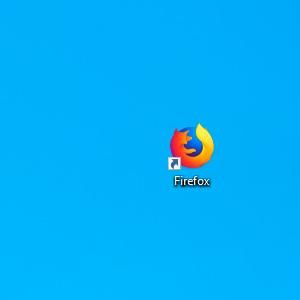firefox: (168, 122, 215, 171)
